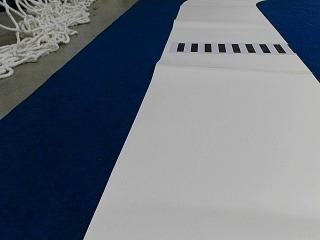crosswalk: (173, 41, 285, 55)
